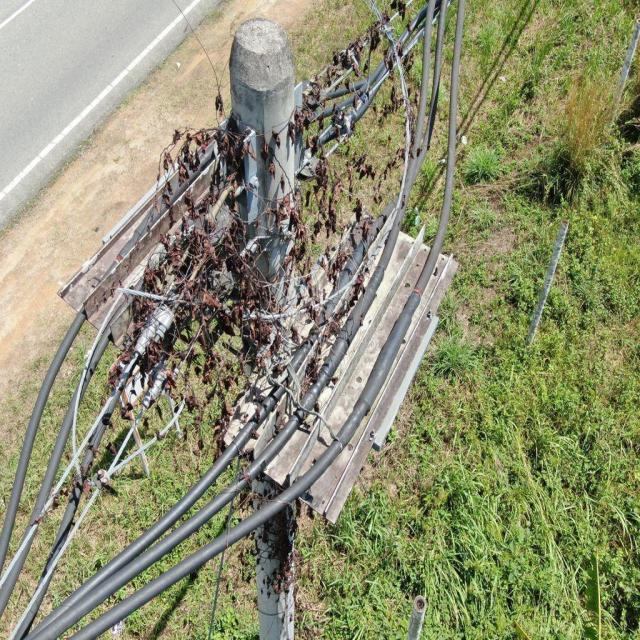critical vegetation: (86, 28, 420, 605)
